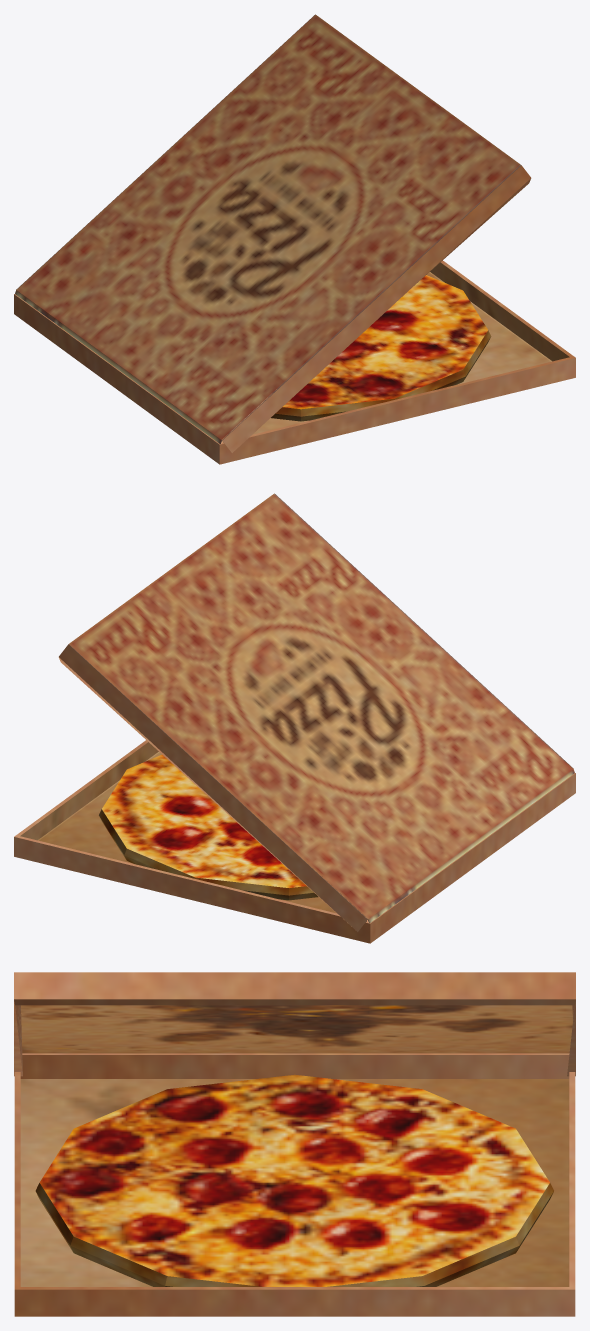
Rendered from pizza_box_semi_close_with_pizza.glb.
3 renders of one model, top to bottom at view 1: azimuth 30°, elevation 25°; view 2: azimuth 150°, elevation 25°; view 3: azimuth 270°, elevation 25°, orthographic. The views are drawn at different scales.
Parts seen in each view (by area): view 1: pizza box semi close with pizza; view 2: pizza box semi close with pizza; view 3: pizza box semi close with pizza.
Part boxes in pixels (<box>): pizza box semi close with pizza: <box>14,14,575,464</box>; pizza box semi close with pizza: <box>14,493,575,943</box>; pizza box semi close with pizza: <box>14,972,575,1316</box>.
Size of the model in its own units: 0.5276 by 0.3198 by 0.5286.
2 materials, 2 textured.
